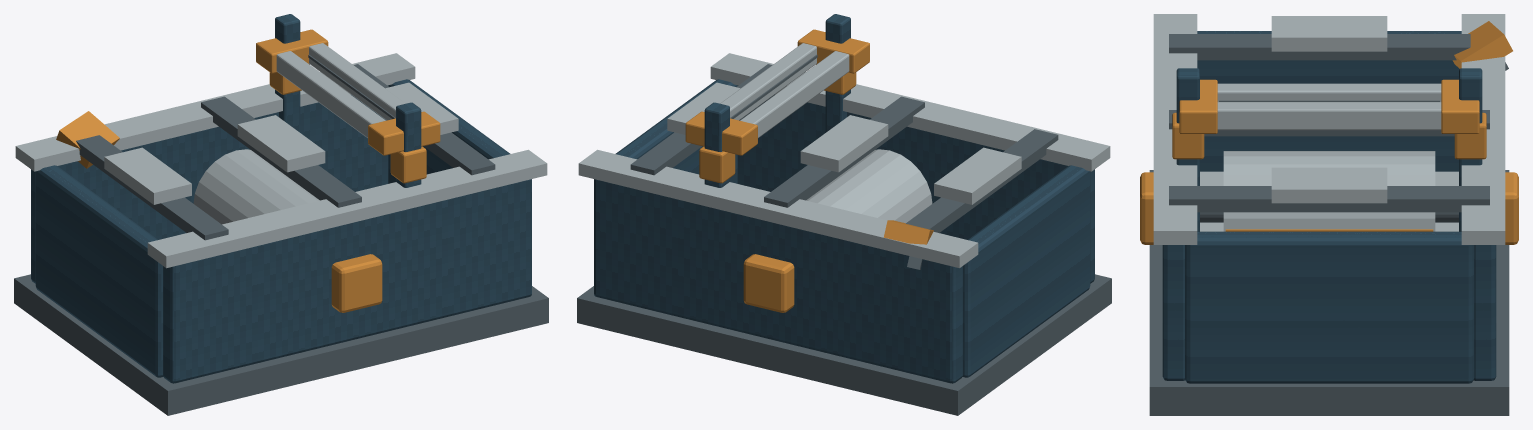
File: galvanizing-lod1.glb
3 renders of one model, left to right at view 1: azimuth 30°, elevation 25°; view 2: azimuth 150°, elevation 25°; view 3: azimuth 270°, elevation 25°, orthographic. The views are drawn at different scales.
Parts seen in each view (by area): view 1: right_bath_wall, entry_bath_wall, support_bed, left_bath_wall, right_rim, left_rim, sink_roll_surface, inlet_nozzle, work_crossbar, work_support, entry_support, entry_crossbar (+11 smaller); view 2: left_bath_wall, entry_bath_wall, support_bed, right_bath_wall, left_rim, right_rim, sink_roll_surface, inlet_nozzle, work_crossbar, work_support, entry_support, left_bearing (+11 smaller); view 3: exit_bath_wall, support_bed, entry_bath_wall, sink_roll_surface, right_rim, outlet_nozzle, exit_crossbar, left_rim, entry_crossbar, exit_support, entry_support, inlet_nozzle (+16 smaller).
Part boxes in pixels (x1,y1,x2,y2): right_bath_wall: (163,179,531,383); entry_bath_wall: (35,165,163,377); support_bed: (14,274,548,415); left_bath_wall: (31,85,388,283); right_rim: (147,149,547,268); left_rim: (15,53,415,171); sink_roll_surface: (193,149,319,224); inlet_nozzle: (276,51,385,137); work_crossbar: (201,96,361,207); work_support: (237,115,325,172); entry_support: (104,147,191,204); entry_crossbar: (76,135,228,240); left_bath_wall: (594,179,962,383); entry_bath_wall: (962,165,1090,377); support_bed: (577,274,1111,415); right_bath_wall: (737,85,1094,283); left_rim: (578,149,978,268); right_rim: (710,53,1110,171); sink_roll_surface: (806,149,932,223); inlet_nozzle: (740,51,849,137); work_crossbar: (764,96,924,207); work_support: (800,115,888,172); entry_support: (934,147,1021,204); left_bearing: (743,254,794,312); exit_bath_wall: (1185,231,1473,383); support_bed: (1149,170,1509,415); entry_bath_wall: (1197,31,1461,171); sink_roll_surface: (1223,151,1435,231); right_rim: (1153,14,1197,244); outlet_nozzle: (1217,102,1441,130); exit_crossbar: (1169,186,1489,212); left_rim: (1461,14,1505,244); entry_crossbar: (1169,34,1470,60); exit_support: (1271,167,1387,203); entry_support: (1271,16,1387,51); inlet_nozzle: (1217,83,1441,101).
Size of the model in its own units: 4 by 2.38 by 2.95.
7 materials, 1 textured.
